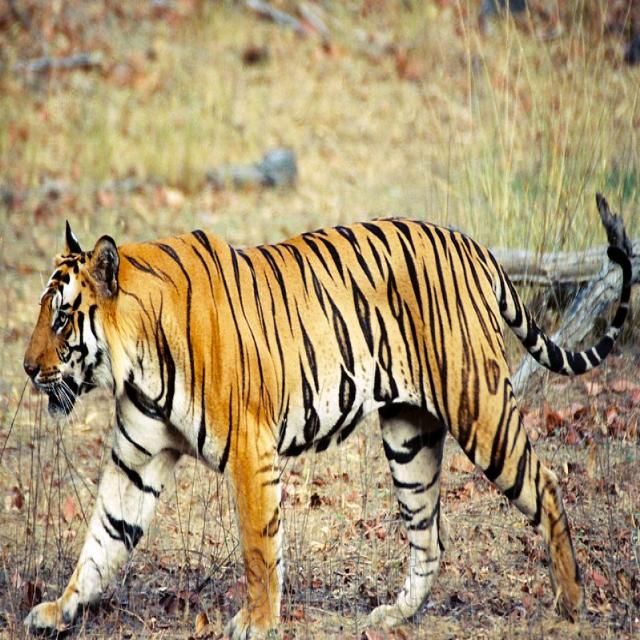Tiger: (13, 206, 630, 618)
